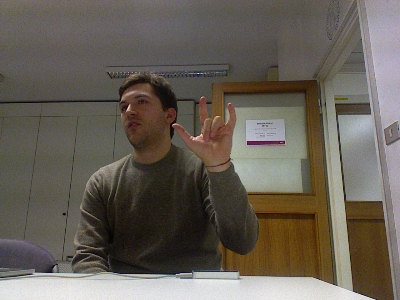我爱你: (170, 94, 238, 163)
